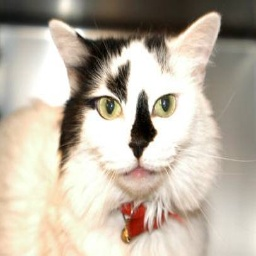cat: (2, 15, 223, 256)
